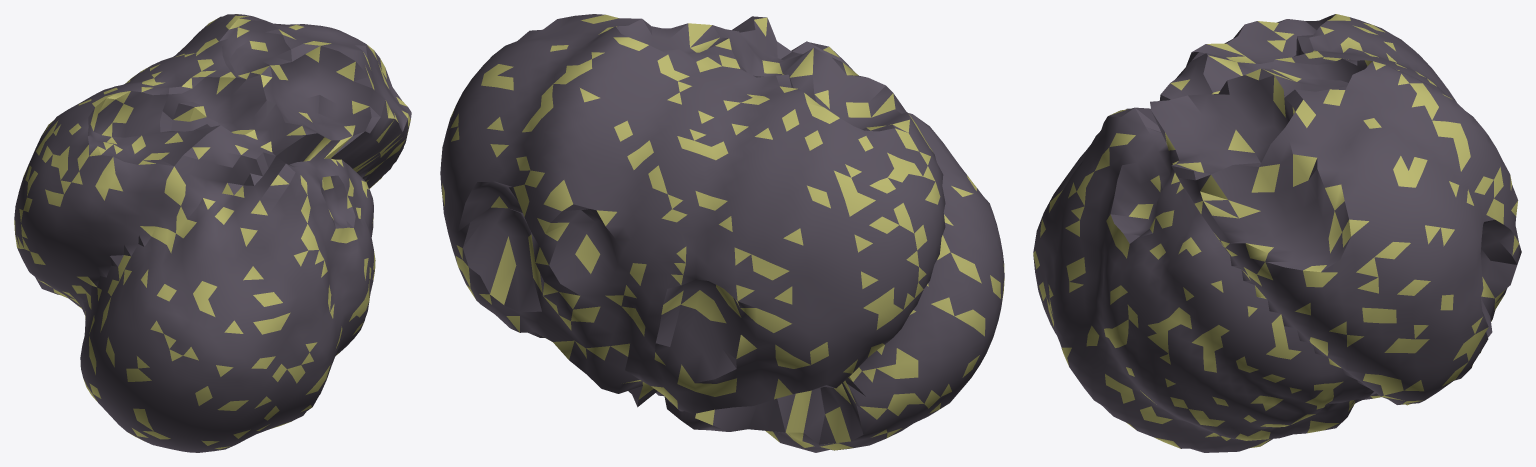
Rendered from huge-carbonic-asteroid.glb.
3 views of the same model, side by side, from view 1: azimuth 30°, elevation 25°; view 2: azimuth 150°, elevation 25°; view 3: azimuth 270°, elevation 25° (orthographic). The views are drawn at different scales.
Parts seen in each view (by area): view 1: body; view 2: body; view 3: body.
Part boxes in pixels (x1,y1,x2,y2): body: (14,14,411,452); body: (440,14,1004,452); body: (1033,14,1521,452).
Bounding box in the file's own units: 11.49 × 10.18 × 10.53.
